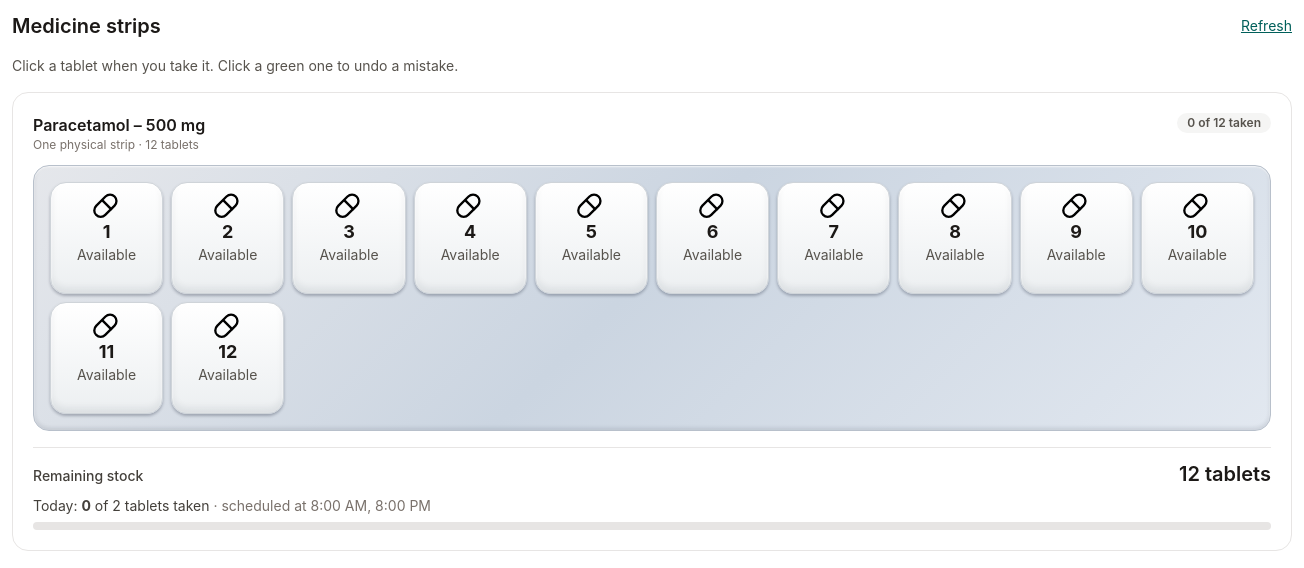
Test: tablet blister strip › stays available until the backend confirms, then that compartment turns green with the time and stock drops to 11
What coordinates should you click on to do the following:
click the button with aria-label "Tablet 3, available"
I would click on:
 (349, 238)
Its box is x1=292 y1=182 x2=406 y2=294.
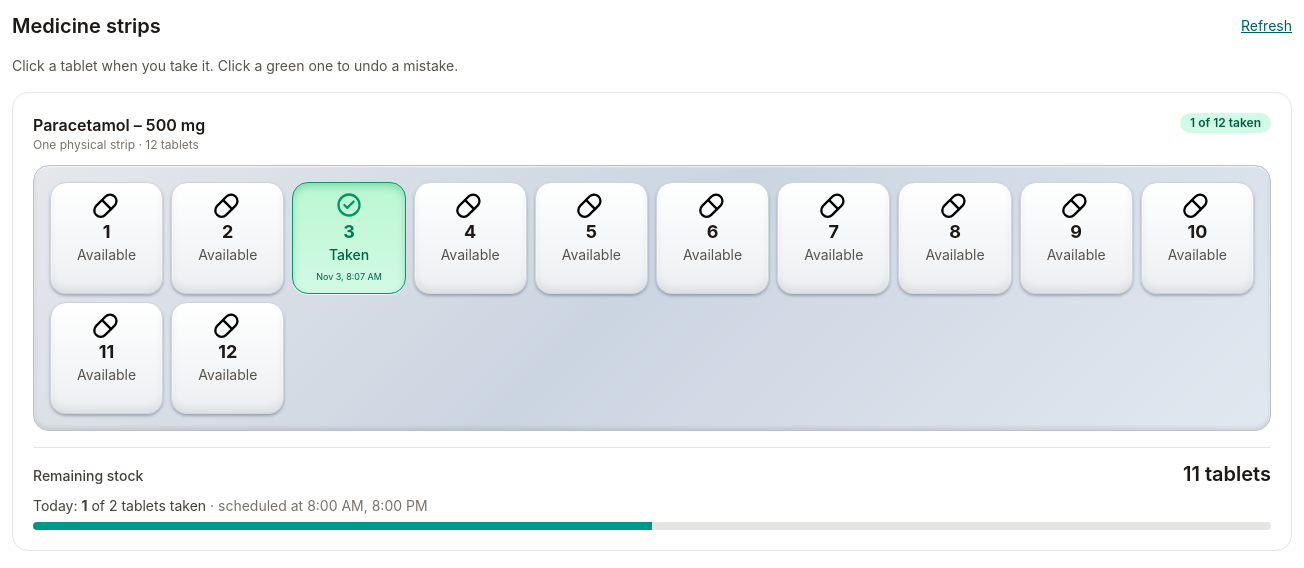
expect the button with aria-label "Tablet 1, available" is shown: met, box x1=50 y1=182 x2=163 y2=294
expect the text "Taken" is shown: met, box x1=329 y1=245 x2=369 y2=265
expect the text "1 of 12 taken" is shown: met, box x1=1180 y1=113 x2=1271 y2=133
